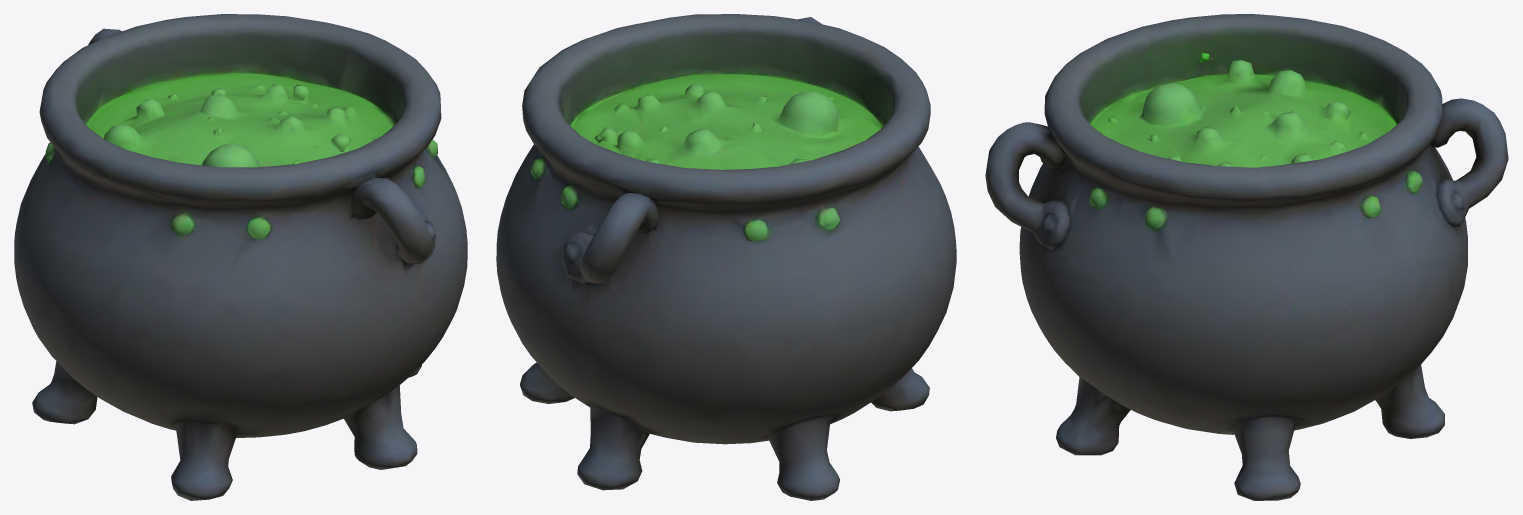
File: cauldron.glb
The picture shows the model from 3 angles, left to right: view 1: azimuth 30°, elevation 25°; view 2: azimuth 150°, elevation 25°; view 3: azimuth 270°, elevation 25°; orthographic projection. The views are drawn at different scales.
Visible parts, largest first — view 1: tripo_node_85128ea0-1094-409f-be10-e87526b5c186; view 2: tripo_node_85128ea0-1094-409f-be10-e87526b5c186; view 3: tripo_node_85128ea0-1094-409f-be10-e87526b5c186.
Boxes of the visible parts, x1,y1,x2,y2 form: tripo_node_85128ea0-1094-409f-be10-e87526b5c186: [14, 14, 467, 500]; tripo_node_85128ea0-1094-409f-be10-e87526b5c186: [496, 14, 956, 500]; tripo_node_85128ea0-1094-409f-be10-e87526b5c186: [985, 14, 1508, 500].
Size of the model in its own units: 0.4457 by 0.35 by 0.5183.
Materials: 1 (1 with a texture image).
